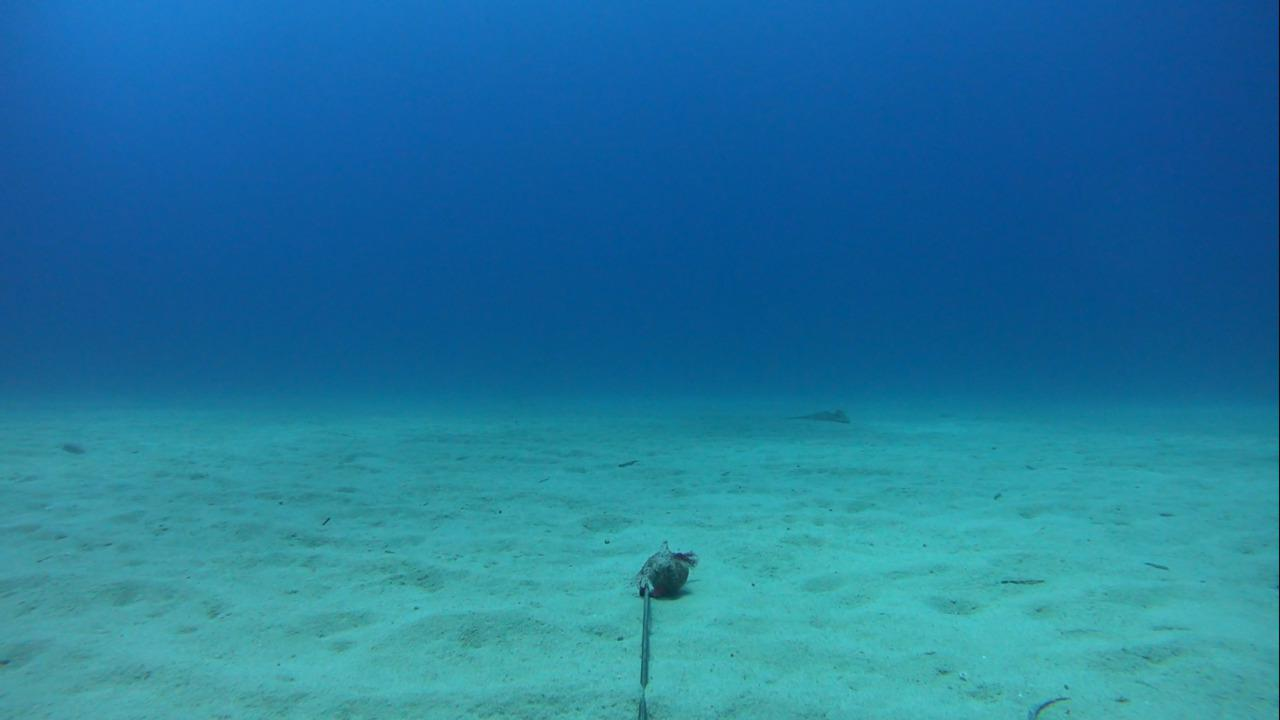myliobatis: (769, 400, 852, 431)
